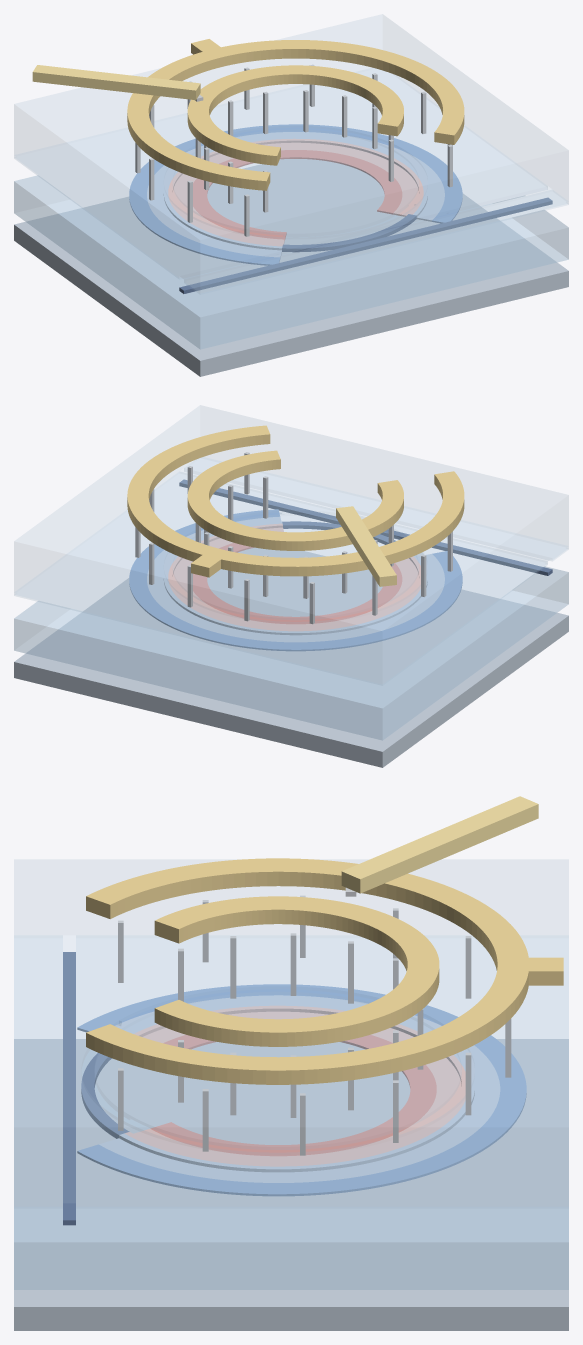
Rendered from stack-ringmod-x.glb.
The picture shows the model from 3 angles, top to bottom: view 1: azimuth 30°, elevation 25°; view 2: azimuth 150°, elevation 25°; view 3: azimuth 270°, elevation 25°; orthographic projection. The views are drawn at different scales.
Parts seen in each view (by area): view 1: cladd, sisub, box, metal1, nn, ndop, pdop, siwg, wplug, pp, metal2; view 2: cladd, sisub, box, metal1, nn, ndop, pdop, wplug, siwg, pp, metal2; view 3: cladd, sisub, box, metal1, nn, ndop, pdop, wplug, metal2, pp, siwg.
Boxes of the visible parts, left/top/right/bottom form: cladd: left=14, top=14, right=568, bottom=294; sisub: left=14, top=159, right=568, bottom=376; box: left=14, top=175, right=568, bottom=349; metal1: left=127, top=39, right=464, bottom=190; nn: left=129, top=124, right=462, bottom=265; ndop: left=147, top=132, right=444, bottom=257; pdop: left=168, top=138, right=423, bottom=246; siwg: left=179, top=197, right=552, bottom=293; wplug: left=135, top=64, right=452, bottom=236; pp: left=193, top=150, right=402, bottom=240; metal2: left=32, top=65, right=200, bottom=100; cladd: left=14, top=405, right=568, bottom=685; sisub: left=14, top=547, right=568, bottom=767; box: left=14, top=513, right=568, bottom=740; metal1: left=127, top=425, right=464, bottom=577; nn: left=129, top=509, right=462, bottom=651; ndop: left=147, top=516, right=444, bottom=642; pdop: left=168, top=523, right=420, bottom=631; wplug: left=135, top=452, right=452, bottom=624; siwg: left=179, top=479, right=552, bottom=575; pp: left=193, top=543, right=402, bottom=624; metal2: left=336, top=506, right=396, bottom=586; cladd: left=14, top=860, right=568, bottom=1207; sisub: left=14, top=1039, right=568, bottom=1330; box: left=14, top=1050, right=568, bottom=1289; metal1: left=86, top=858, right=563, bottom=1084; nn: left=77, top=984, right=526, bottom=1196; ndop: left=99, top=995, right=500, bottom=1182; pdop: left=125, top=1005, right=465, bottom=1166; wplug: left=118, top=887, right=511, bottom=1155; metal2: left=341, top=796, right=538, bottom=893; pp: left=150, top=1035, right=436, bottom=1156; siwg: left=63, top=952, right=129, bottom=1225.
Bounding box in the file's own units: 24 × 11.2 × 21.
